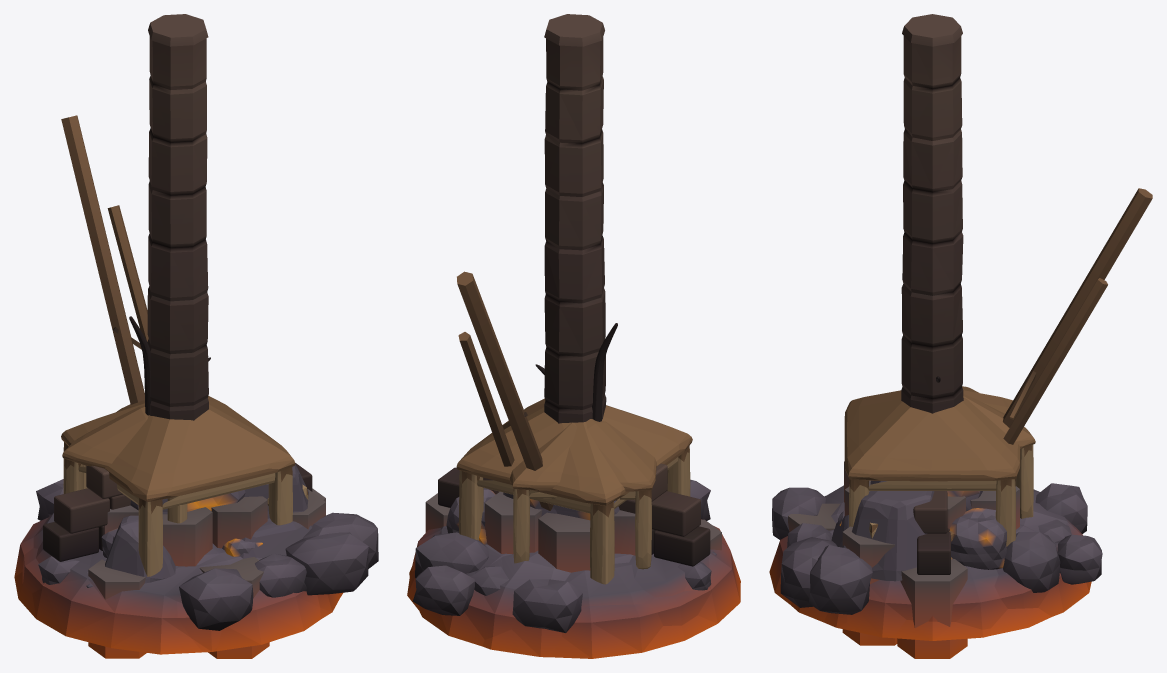
File: volcano-s7-BvospPXY.glb
The picture shows the model from 3 angles, left to right: view 1: azimuth 30°, elevation 25°; view 2: azimuth 150°, elevation 25°; view 3: azimuth 270°, elevation 25°; orthographic projection. The views are drawn at different scales.
Parts seen in each view (by area): view 1: sc_wall_1, sc_pillar, sc_camp_tent, sc_z0_3, sc_floe_0, sc_beam_lean, sc_z3_2, sc_z3_3; view 2: sc_pillar, sc_wall_1, sc_z0_3, sc_camp_tent, sc_floe_0, sc_beam_lean, sc_z3_3, sc_z3_2; view 3: sc_pillar, sc_wall_1, sc_camp_tent, sc_z0_3, sc_floe_0, sc_beam_lean, sc_z3_2, sc_z3_3.
Boxes of the visible parts, x1,y1,x2,y2 form: sc_wall_1: (14, 463, 378, 654); sc_pillar: (147, 14, 208, 420); sc_camp_tent: (61, 396, 295, 576); sc_z0_3: (22, 400, 368, 652); sc_floe_0: (88, 488, 325, 658); sc_beam_lean: (61, 115, 148, 404); sc_z3_2: (38, 316, 312, 587); sc_z3_3: (36, 479, 262, 557); sc_pillar: (544, 14, 606, 423); sc_wall_1: (409, 463, 740, 658); sc_z0_3: (407, 419, 711, 657); sc_camp_tent: (456, 398, 692, 584); sc_floe_0: (425, 478, 721, 572); sc_beam_lean: (457, 271, 553, 510); sc_z3_3: (446, 488, 619, 632); sc_z3_2: (471, 323, 716, 595); sc_pillar: (901, 14, 963, 413); sc_wall_1: (769, 485, 1091, 640); sc_camp_tent: (844, 390, 1020, 546); sc_z0_3: (780, 386, 1102, 637); sc_floe_0: (788, 461, 1019, 658); sc_beam_lean: (1003, 188, 1152, 444); sc_z3_2: (831, 376, 1071, 581); sc_z3_3: (838, 480, 1087, 569).
Size of the model in its own units: 11.55 by 22 by 13.48.
